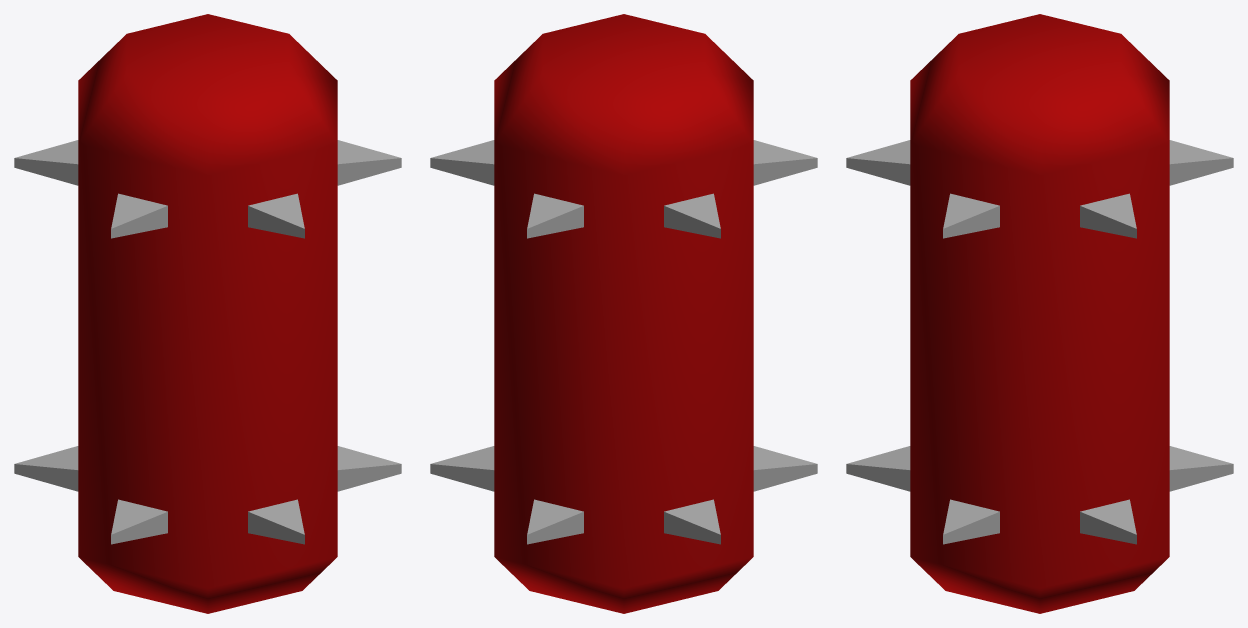
Rendered from posoh4.fbx.
The picture shows the model from 3 angles, left to right: view 1: azimuth 30°, elevation 25°; view 2: azimuth 150°, elevation 25°; view 3: azimuth 270°, elevation 25°; orthographic projection.
Visible parts, largest first — view 1: posoh4; view 2: posoh4; view 3: posoh4.
Part boxes in pixels (<box>): posoh4: <box>14,14,401,613</box>; posoh4: <box>430,14,817,613</box>; posoh4: <box>846,14,1233,613</box>.
Bounding box in the file's own units: 8.54 × 14.44 × 9.86.
